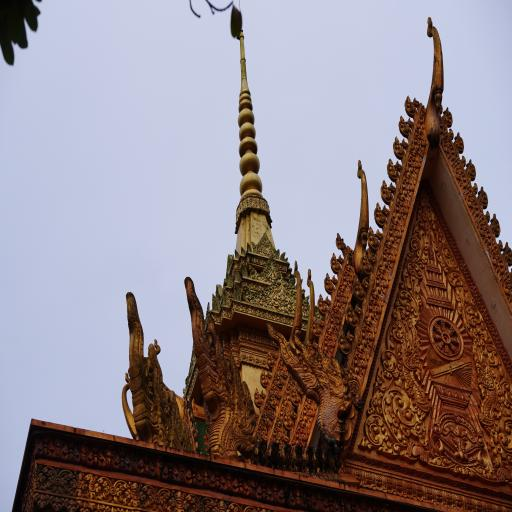la: (58, 469, 111, 501), (110, 478, 156, 510), (157, 484, 199, 512), (364, 413, 390, 448), (398, 290, 422, 324), (158, 453, 182, 485), (84, 435, 106, 468), (462, 300, 484, 332), (205, 464, 228, 494), (181, 457, 203, 488), (253, 473, 275, 504), (110, 442, 132, 472), (37, 430, 57, 461), (308, 484, 330, 512), (410, 123, 428, 157), (373, 264, 392, 296), (229, 469, 249, 499), (359, 317, 377, 350), (392, 192, 410, 224), (352, 345, 370, 377), (133, 446, 152, 476), (276, 474, 293, 507), (36, 464, 56, 492), (478, 210, 492, 249), (379, 240, 397, 270), (288, 480, 306, 510), (366, 290, 385, 318), (59, 435, 78, 463), (388, 215, 405, 246), (406, 144, 421, 177), (400, 171, 416, 200), (468, 183, 480, 221), (492, 240, 504, 277), (381, 347, 398, 373), (405, 258, 425, 280), (444, 129, 456, 165), (454, 157, 467, 190), (321, 334, 336, 356), (328, 311, 342, 334), (503, 269, 512, 303), (334, 292, 348, 312), (302, 404, 316, 424), (293, 428, 309, 445), (34, 491, 50, 508), (282, 409, 294, 431), (290, 386, 303, 406), (253, 386, 263, 411), (342, 271, 355, 290), (353, 467, 364, 488), (444, 490, 456, 509), (64, 497, 80, 510), (374, 472, 384, 492), (266, 350, 276, 370), (260, 368, 270, 388), (435, 489, 445, 508), (404, 479, 414, 498), (395, 478, 405, 497), (385, 476, 395, 495), (275, 373, 286, 390), (79, 499, 93, 512), (424, 486, 434, 504), (463, 496, 474, 512), (268, 394, 278, 411), (51, 496, 63, 510), (455, 493, 464, 511), (415, 482, 423, 502), (365, 470, 373, 490), (473, 499, 485, 512), (417, 114, 426, 127), (484, 501, 494, 512), (344, 464, 352, 476), (240, 350, 248, 362), (291, 407, 297, 421), (248, 352, 254, 366), (254, 352, 260, 366), (231, 334, 238, 346), (494, 503, 503, 512), (450, 241, 457, 252), (497, 342, 504, 353), (462, 263, 468, 275), (283, 432, 289, 444), (273, 348, 279, 360), (248, 330, 254, 342), (475, 294, 482, 304), (482, 310, 489, 320), (504, 358, 511, 368), (266, 370, 273, 380), (438, 214, 444, 225), (479, 301, 485, 312), (261, 356, 267, 367), (224, 338, 230, 349), (268, 413, 276, 421), (442, 220, 447, 232), (448, 235, 454, 245), (455, 248, 460, 260), (468, 279, 474, 289), (472, 287, 478, 297), (490, 326, 496, 336), (494, 335, 500, 345), (235, 356, 240, 368), (239, 328, 244, 340), (244, 330, 249, 342), (254, 331, 259, 343), (261, 333, 266, 345), (504, 505, 512, 512), (458, 258, 464, 267), (260, 389, 266, 398), (466, 272, 471, 282), (446, 227, 450, 239), (282, 370, 288, 378), (268, 334, 272, 346), (487, 318, 491, 328), (502, 350, 506, 360), (277, 391, 282, 399), (319, 317, 323, 326)
lua: (422, 12, 445, 139), (350, 153, 374, 270), (385, 156, 402, 184), (392, 134, 408, 162), (352, 277, 368, 304), (338, 327, 352, 356), (372, 205, 388, 230), (346, 303, 360, 331), (359, 251, 374, 277), (398, 113, 412, 140), (489, 212, 503, 238), (366, 228, 381, 252), (379, 180, 393, 205), (405, 94, 418, 120), (335, 231, 348, 256), (502, 240, 512, 269), (330, 252, 342, 276), (317, 294, 329, 318), (454, 130, 465, 155), (323, 273, 336, 294), (479, 184, 489, 211), (466, 156, 476, 183), (311, 315, 323, 336), (443, 107, 454, 127), (346, 328, 358, 344), (484, 208, 492, 224), (412, 98, 422, 110), (394, 158, 404, 170), (354, 304, 364, 316), (403, 139, 411, 152), (362, 277, 370, 290), (498, 236, 504, 253), (460, 153, 467, 167), (406, 117, 414, 129), (338, 253, 346, 265), (448, 128, 455, 141), (376, 228, 383, 240), (331, 273, 338, 285), (325, 295, 333, 305), (389, 182, 396, 193), (473, 180, 478, 194), (383, 205, 389, 215)
ran: (180, 272, 263, 464), (265, 312, 360, 448), (113, 294, 189, 450), (395, 320, 434, 420), (471, 334, 501, 427), (233, 282, 242, 301), (212, 294, 221, 312), (222, 286, 230, 306), (233, 267, 241, 282), (225, 273, 233, 288), (240, 264, 248, 278), (280, 250, 287, 263), (273, 246, 280, 259), (246, 242, 252, 254), (239, 245, 246, 255), (234, 249, 240, 258)
